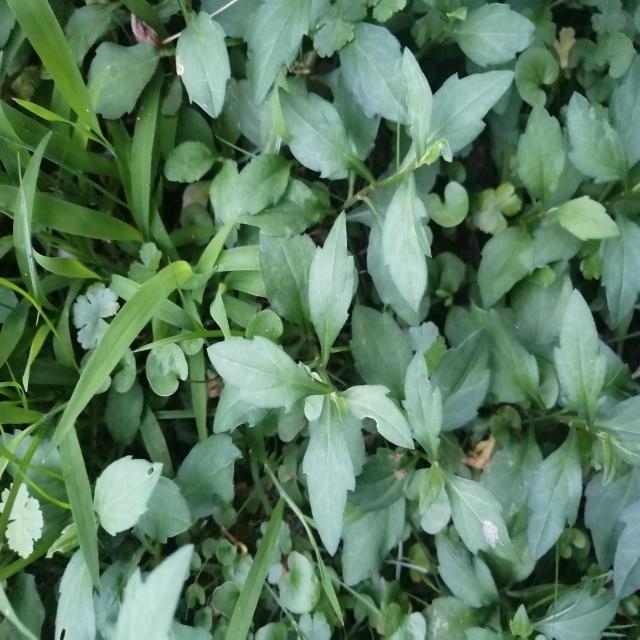Indian aster: (232, 210, 414, 536), (276, 27, 479, 307)
